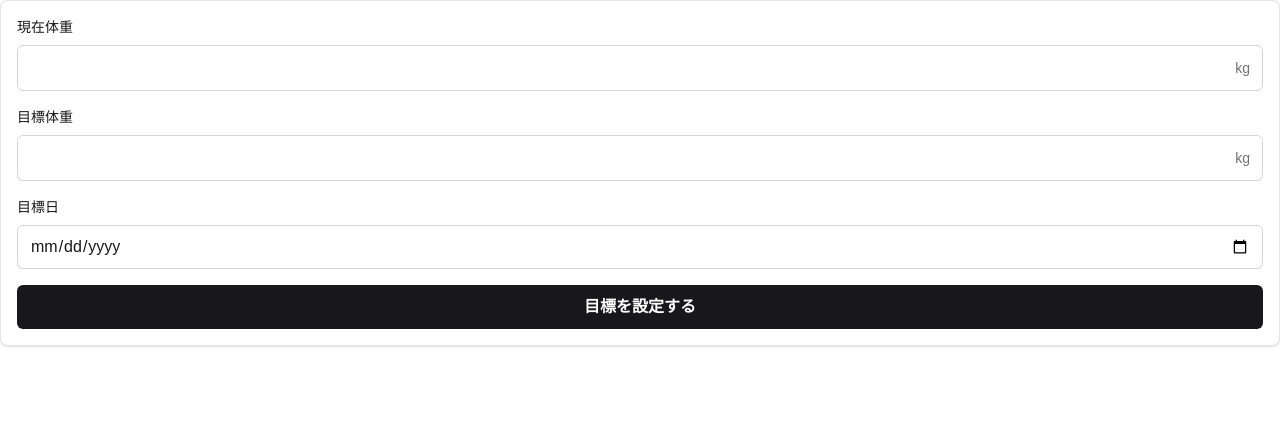
Test: GoalSettingForm › shows required validation errors
What coordinates should you click on to do the following:
click the button "目標を設定する"
I would click on:
 (640, 307)
Its box is 17,285 -> 1263,329.
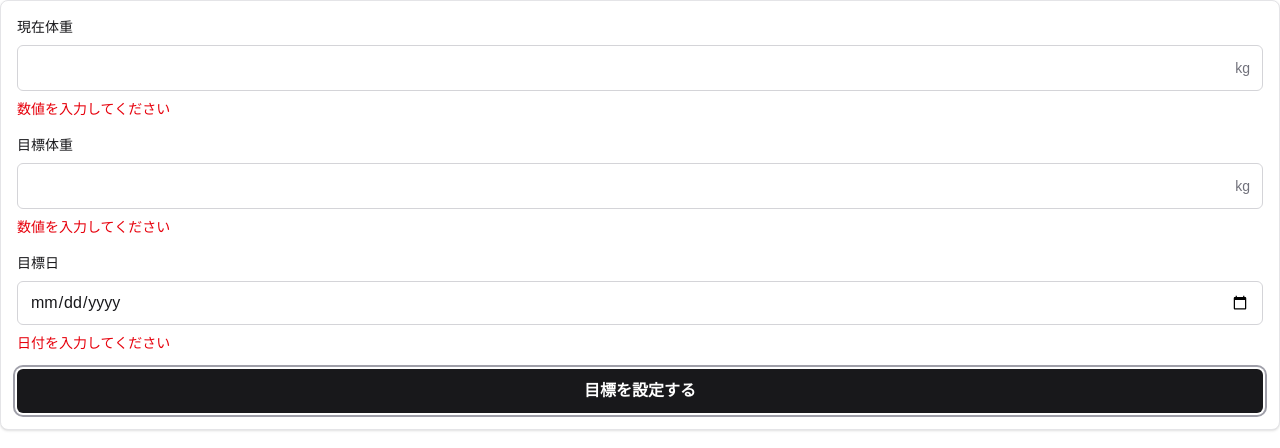
expect the text "数値を入力してください" is shown 2 times: met, box 17,101 -> 170,117; 17,219 -> 170,235
expect the text "日付を入力してください" is shown: met, box 17,335 -> 170,351
